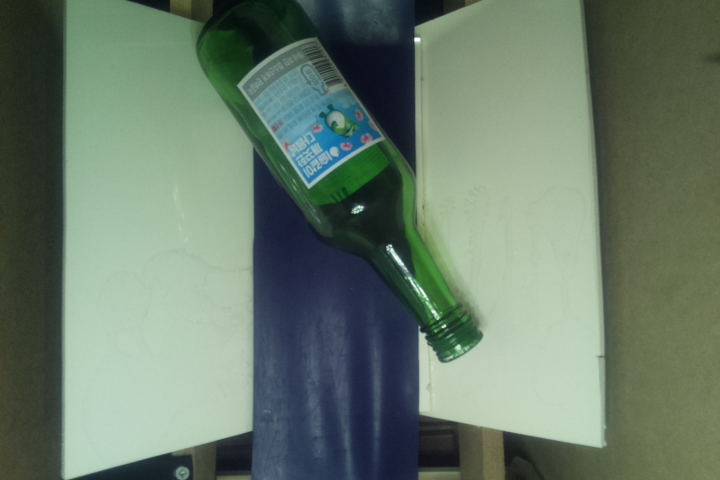soju: (191, 1, 481, 366)
